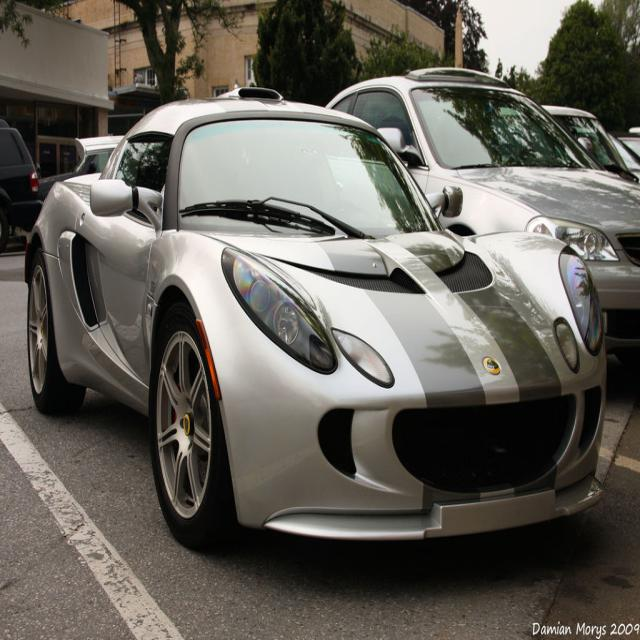car: (29, 94, 615, 561)
